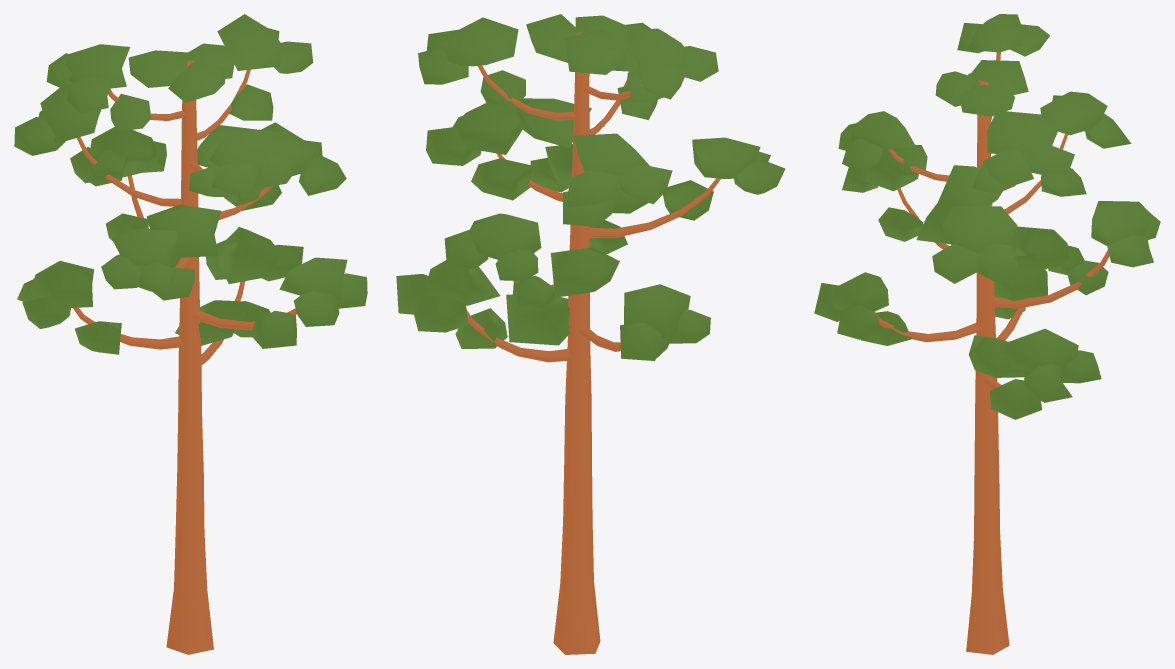
File: Blender_Ponderosa_1_Far.glb
3 renders of one model, left to right at view 1: azimuth 30°, elevation 25°; view 2: azimuth 150°, elevation 25°; view 3: azimuth 270°, elevation 25°, orthographic. The views are drawn at different scales.
Parts seen in each view (by area): view 1: Blender_Ponderosa_1_Far; view 2: Blender_Ponderosa_1_Far; view 3: Blender_Ponderosa_1_Far.
Part boxes in pixels (left/top/right/bottom): Blender_Ponderosa_1_Far: left=14, top=14, right=367, bottom=654; Blender_Ponderosa_1_Far: left=396, top=14, right=785, bottom=654; Blender_Ponderosa_1_Far: left=814, top=14, right=1160, bottom=654.
Size of the model in its own units: 15.7 by 32.39 by 17.16.
